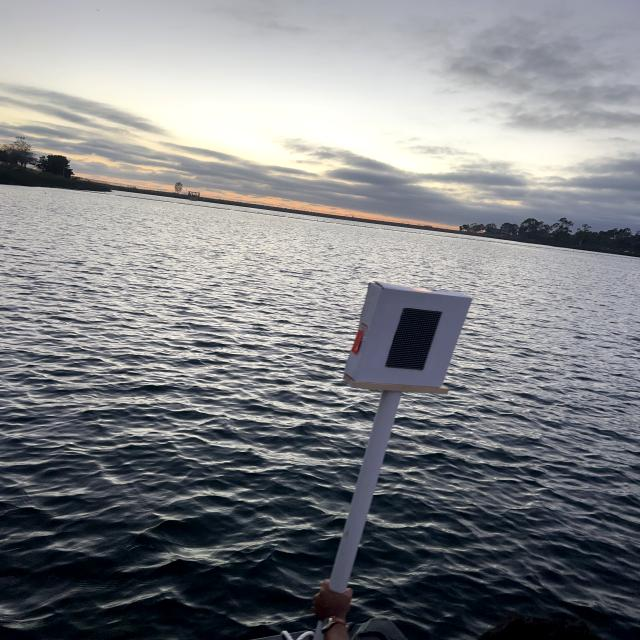led: (375, 292, 442, 390)
